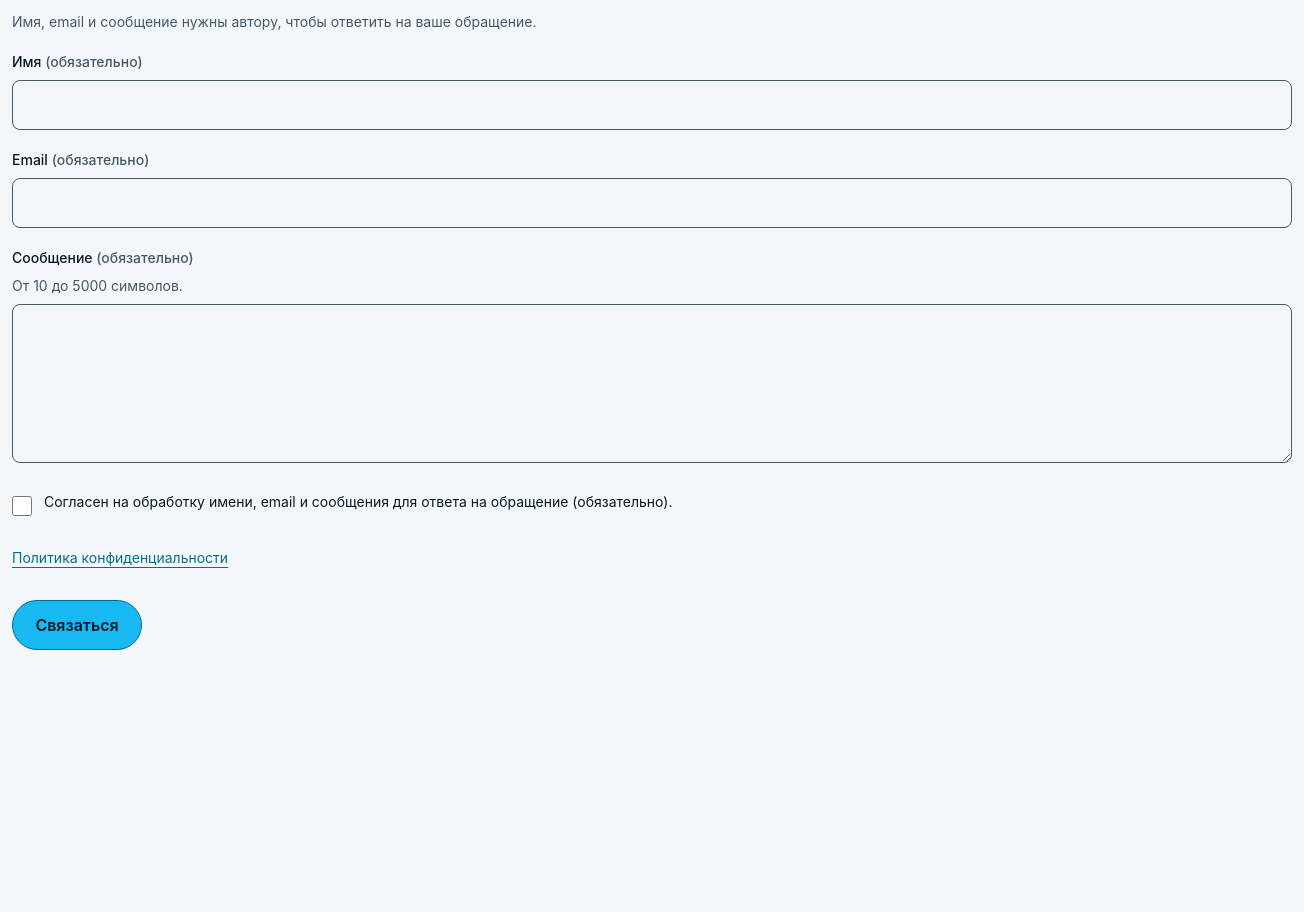
Test: public forms › reports HTTP 429 without success and preserves the message
The width and height of the screenshot is (1304, 912).
Type "reader@example.com" into the field labelled "Email (обязательно)" at (652,203), box [12, 178, 1292, 228]
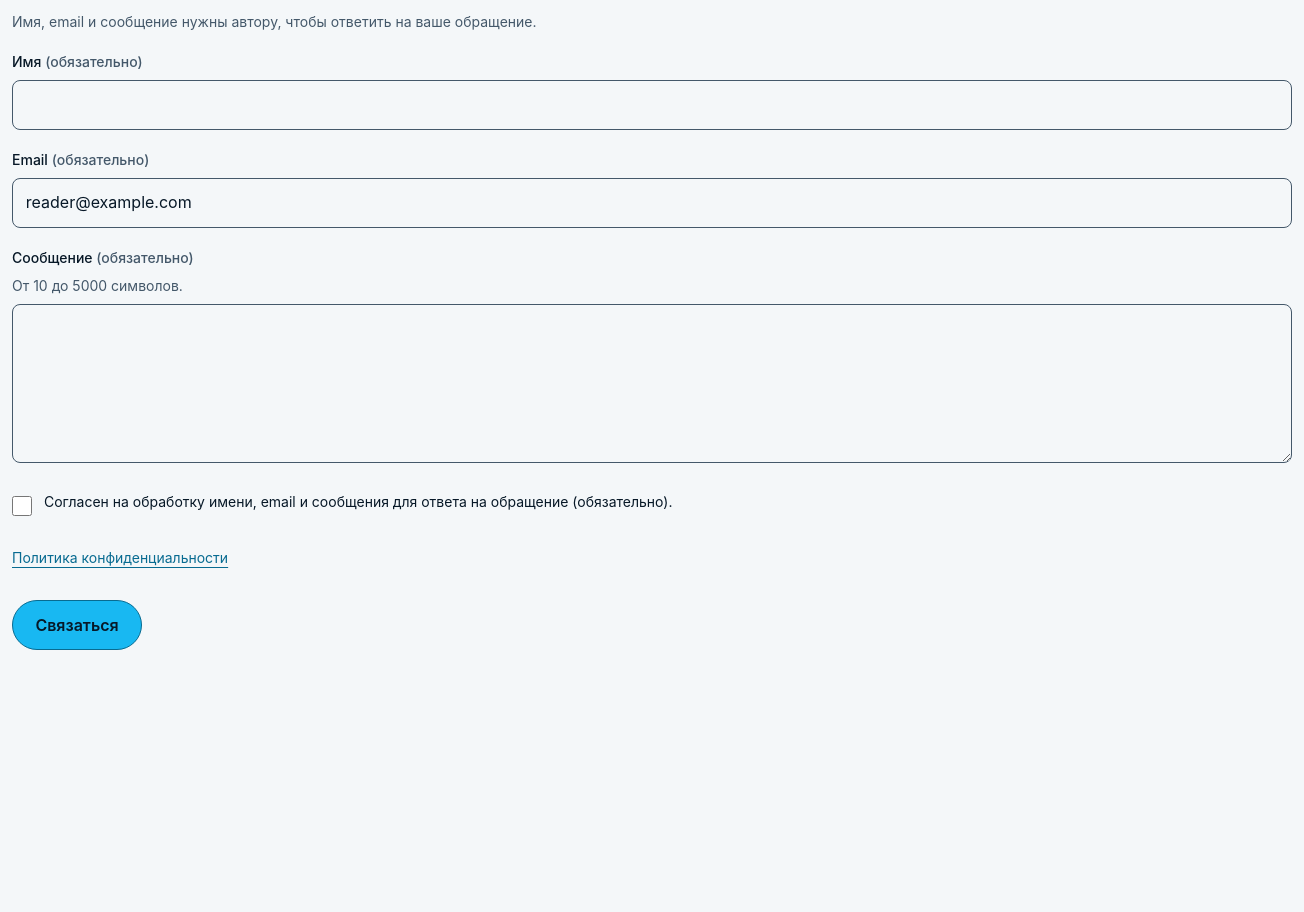
Type "  Читатель  " into the field labelled "Имя (обязательно)" at (652,105), box [12, 80, 1292, 130]
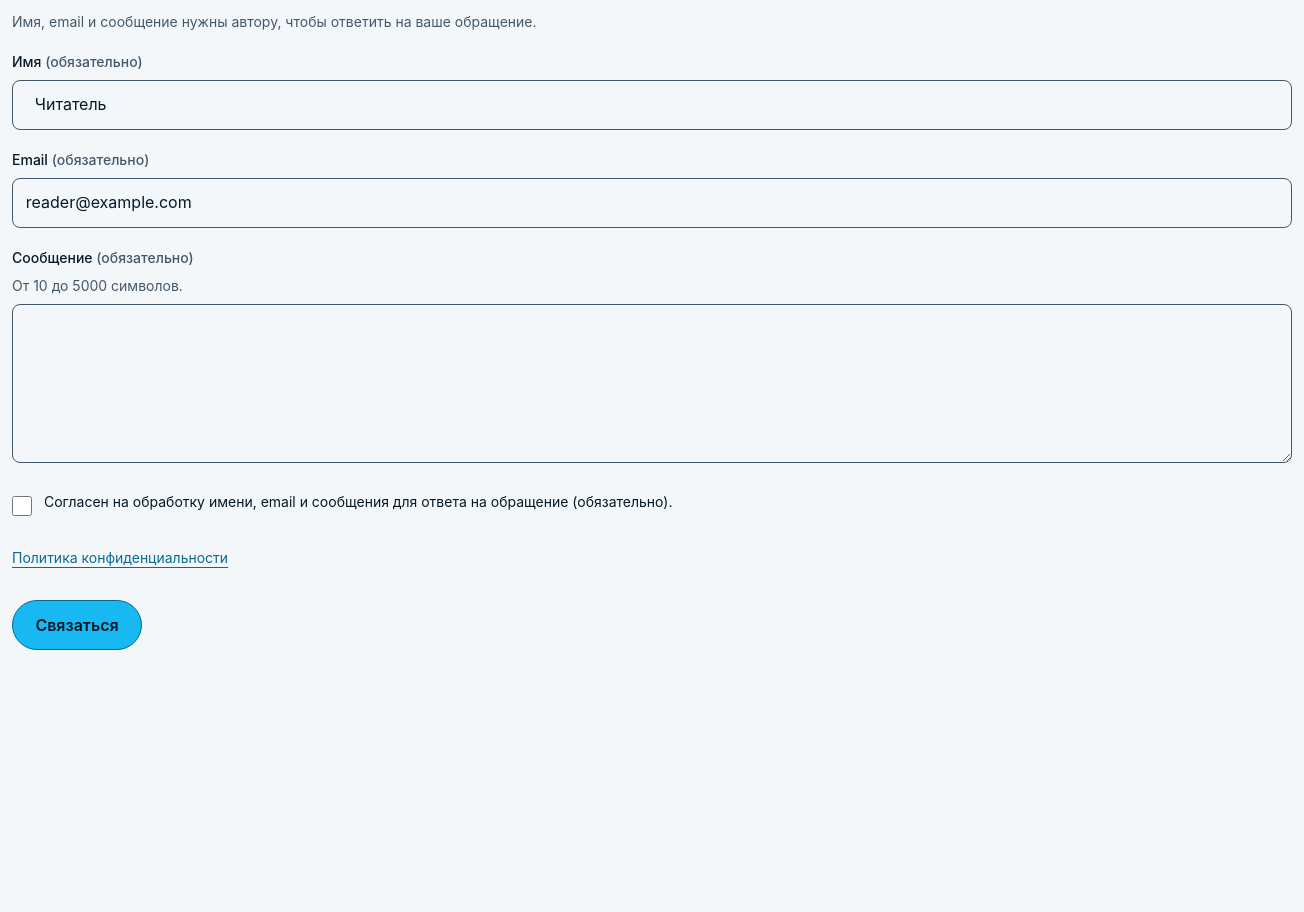
Type "  Обсудим проект и статью.  " into the text box labelled "Сообщение (обязательно)" at (652,383), box [12, 304, 1292, 463]
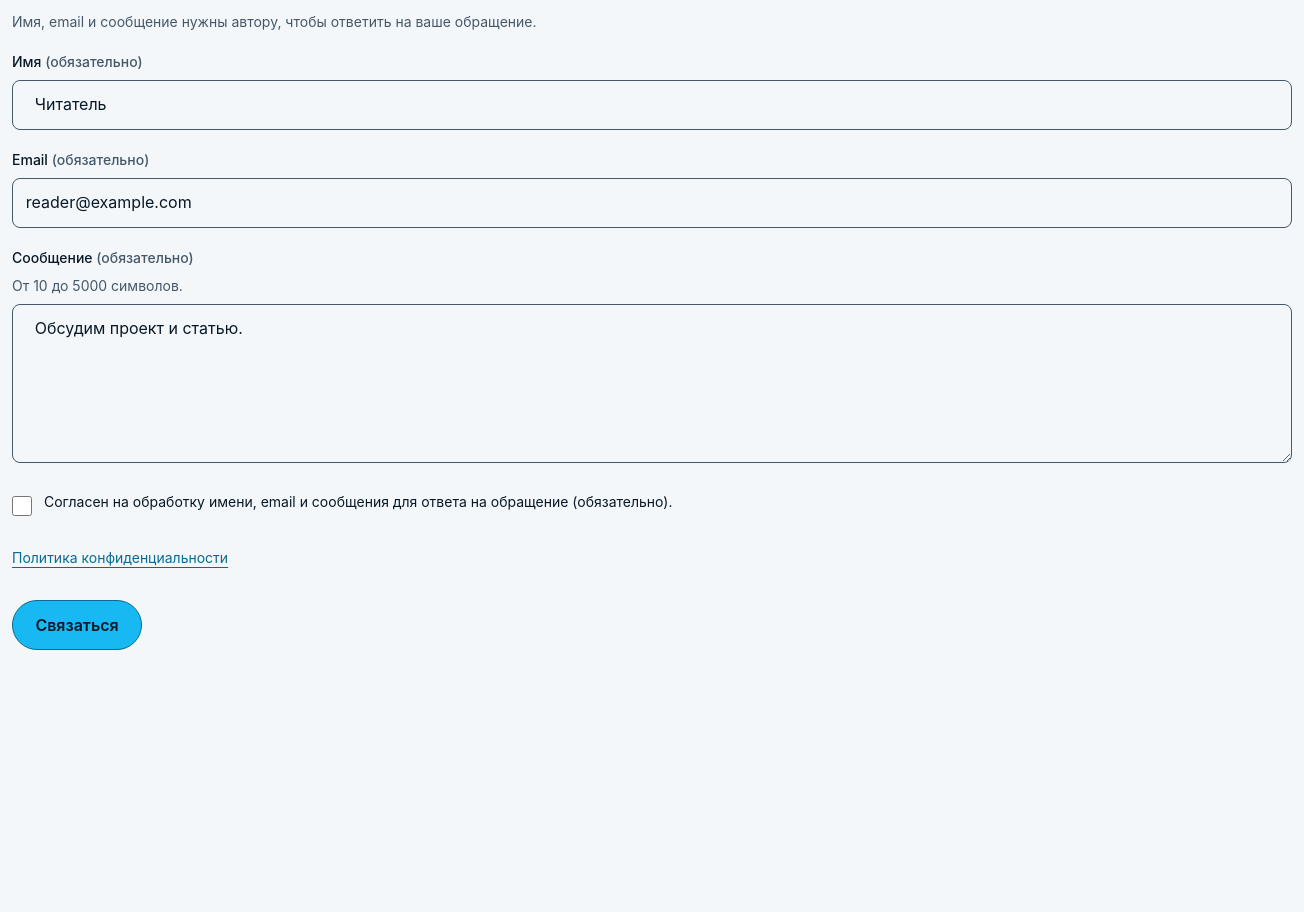
Click the checkbox at (22,506), box [12, 496, 32, 516]
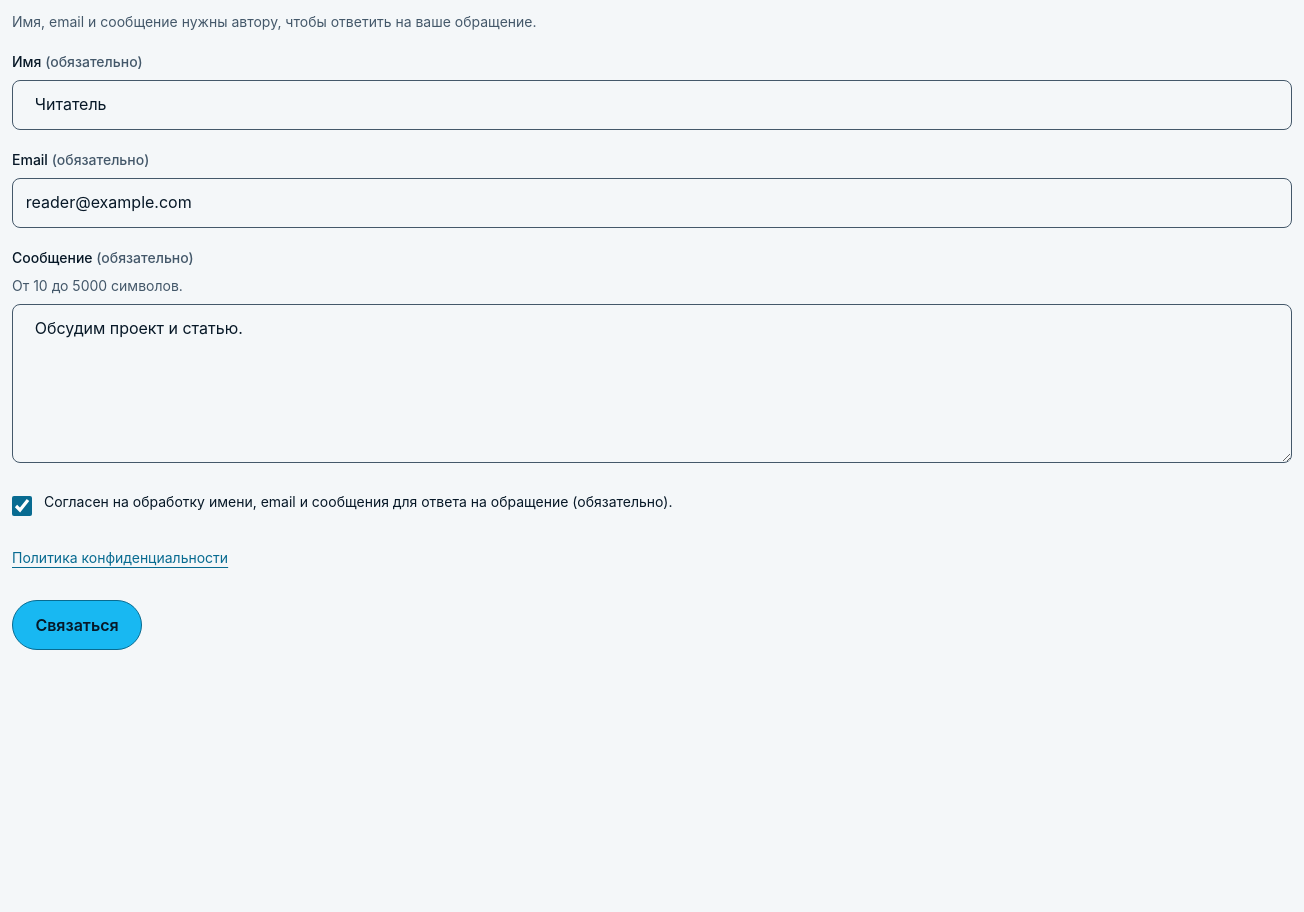
Click the button at (77,625), box [12, 600, 142, 650]
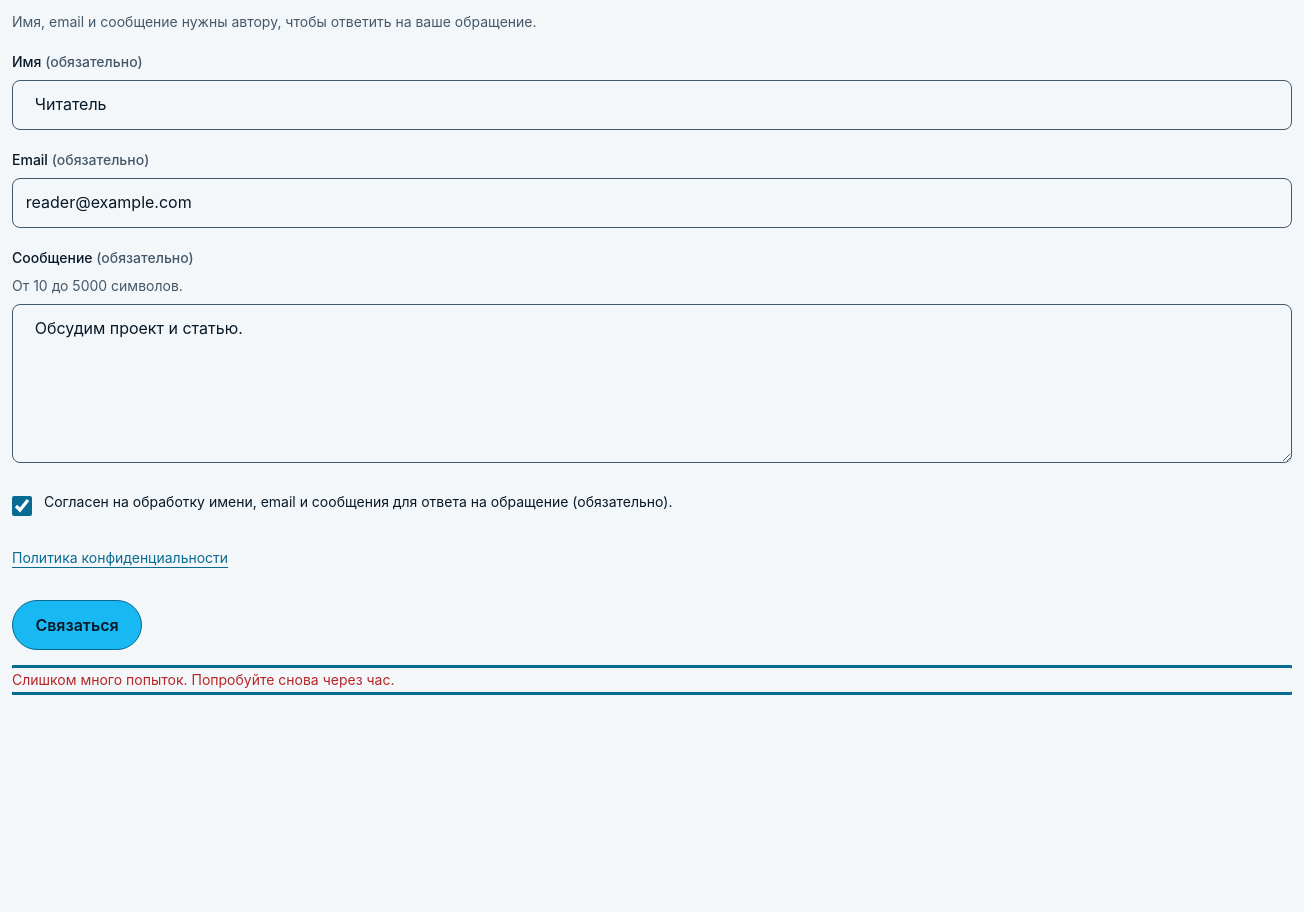
Check: the message shows "через час", box [12, 671, 394, 688]
